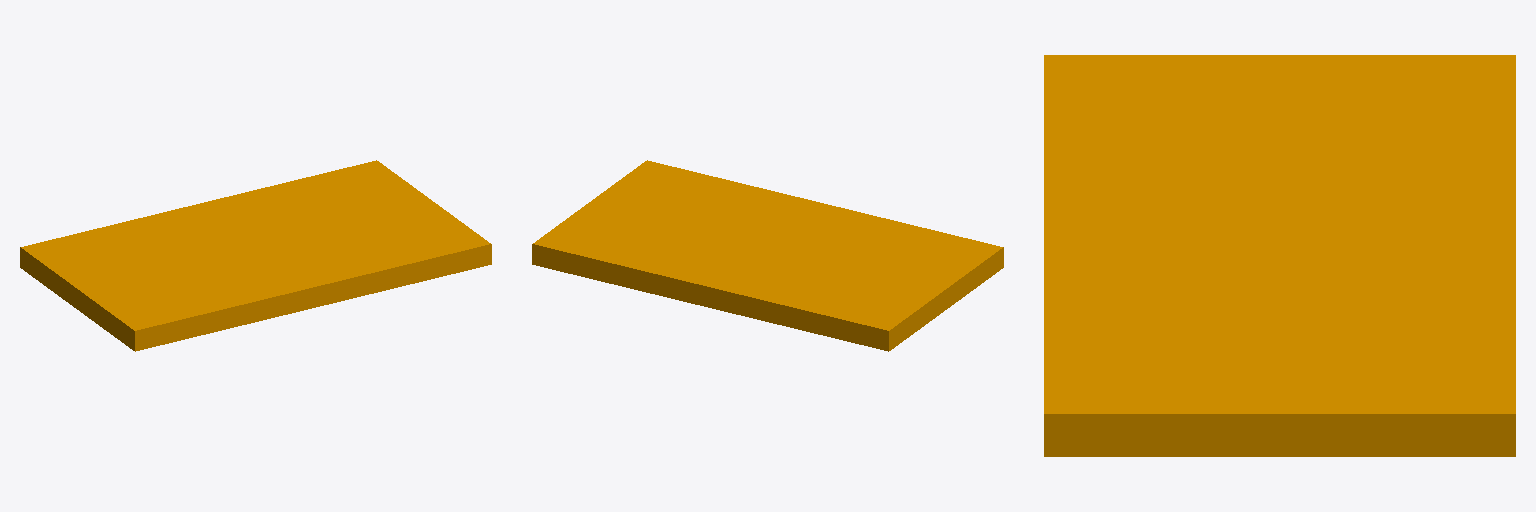
URDF robot description (box):
<?xml version="1.0"?>
<robot name="box">
  <link name="box">
    <visual>
      <origin xyz="0 0 0"/>
      <geometry>
        <box size="1.8 1.0 0.1"/>
      </geometry>
    </visual>
    <collision>
      <origin xyz="0 0 0"/>
      <geometry>
        <box size="1.8 1.0 0.1"/>
      </geometry>
    </collision>
    <inertial>
      <mass value="500"/>
      <friction value="1.0"/>
      <inertia ixx="1000.0" ixy="0.0" ixz="0.0" iyy="1000.0" iyz="0.0" izz="1000.0"/>
    </inertial>
  </link>
</robot>

--- Facts derived from the render (not from the file) ---
The picture shows the robot from 3 angles, left to right: view 1: azimuth 30°, elevation 25°; view 2: azimuth 150°, elevation 25°; view 3: azimuth 270°, elevation 25°; orthographic projection.
Model box with 1 links and 0 joints (none), rooted at box, posed every joint at zero.
Visible links, largest first — view 1: box; view 2: box; view 3: box.
Link boxes in pixels (bbox=[...]): box: bbox=[20, 160, 491, 351]; box: bbox=[532, 160, 1003, 351]; box: bbox=[1044, 55, 1515, 456].
Bounding box of the posed robot: 1.8 × 1 × 0.1 m (x, y, z).
Geometry: primitives only (box / cylinder / sphere), no mesh files.